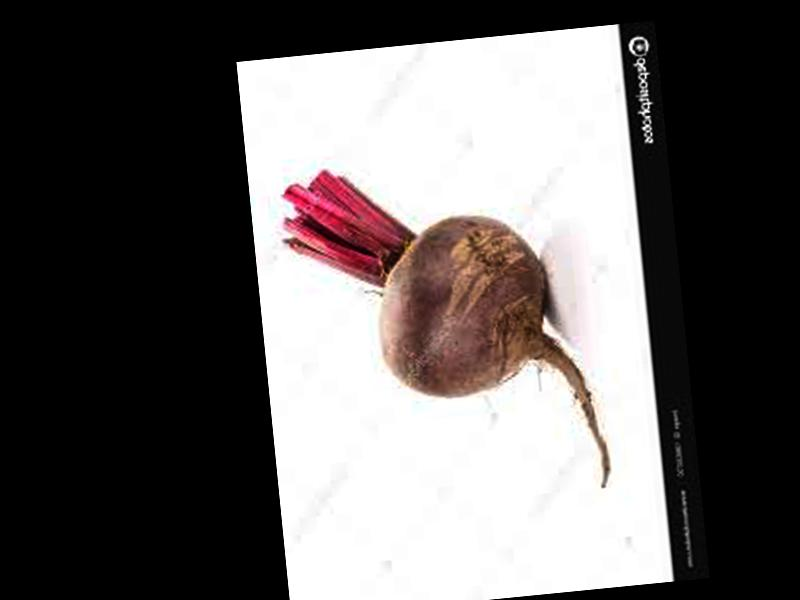Beet: (279, 148, 610, 517)
